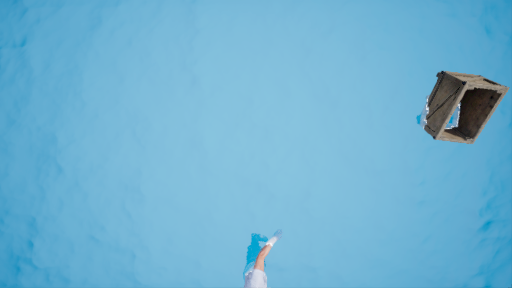person: (241, 227, 283, 288)
